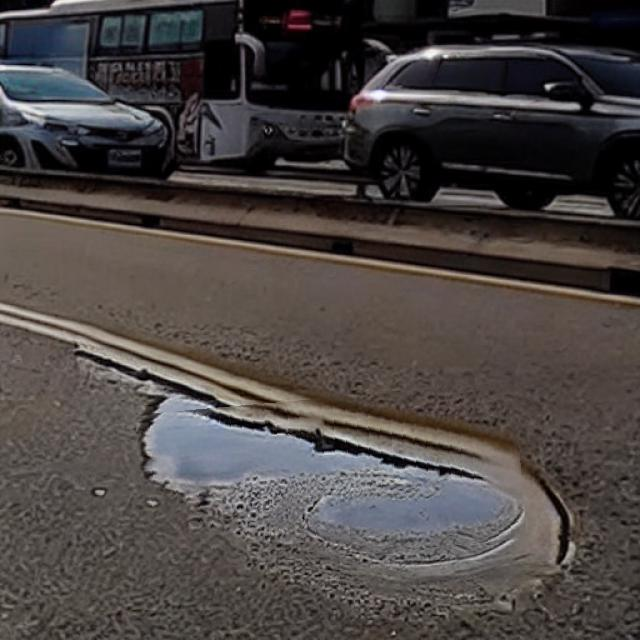puddle: (139, 391, 525, 565)
